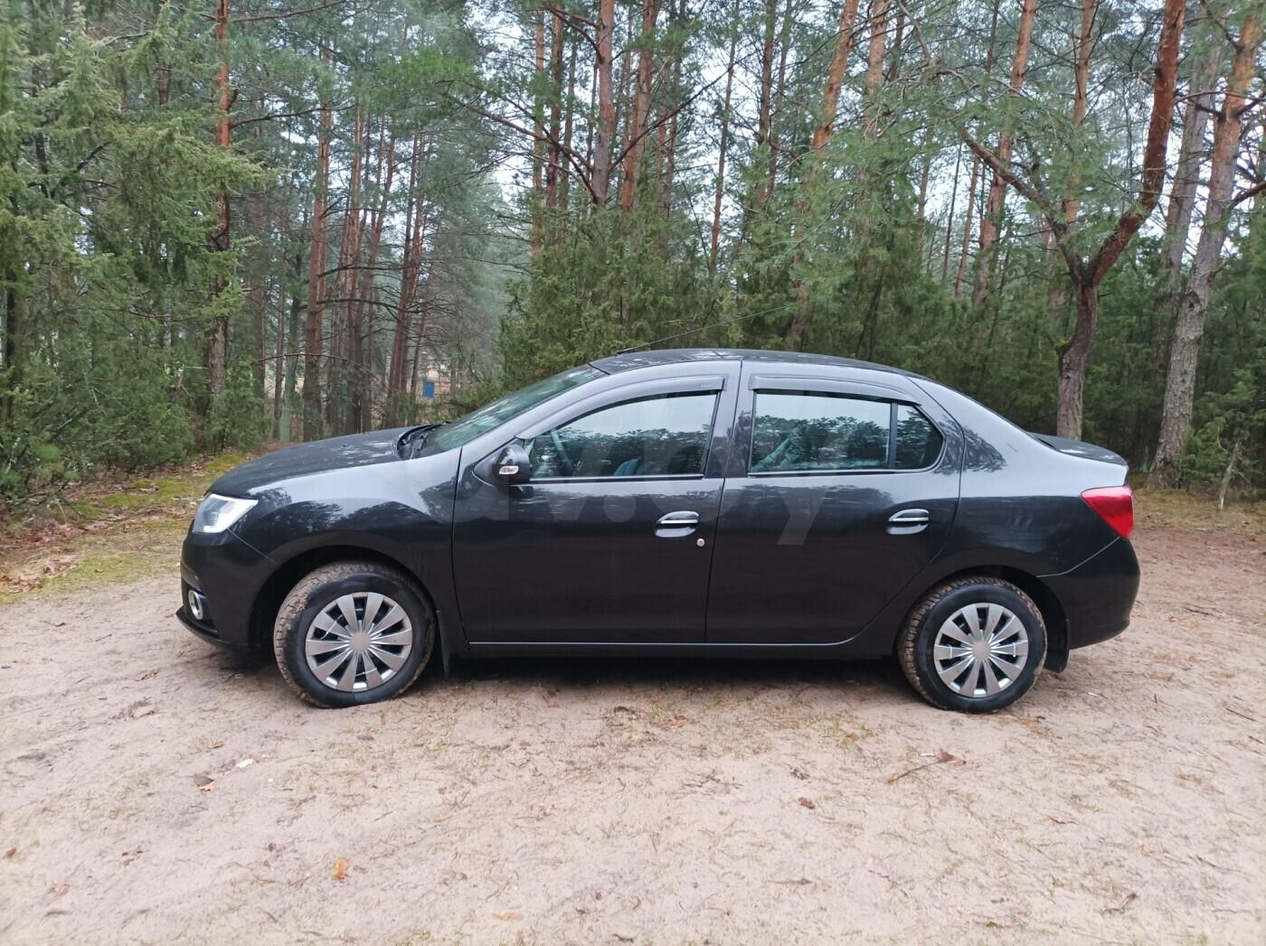Logan_2018: (172, 337, 1156, 736)
